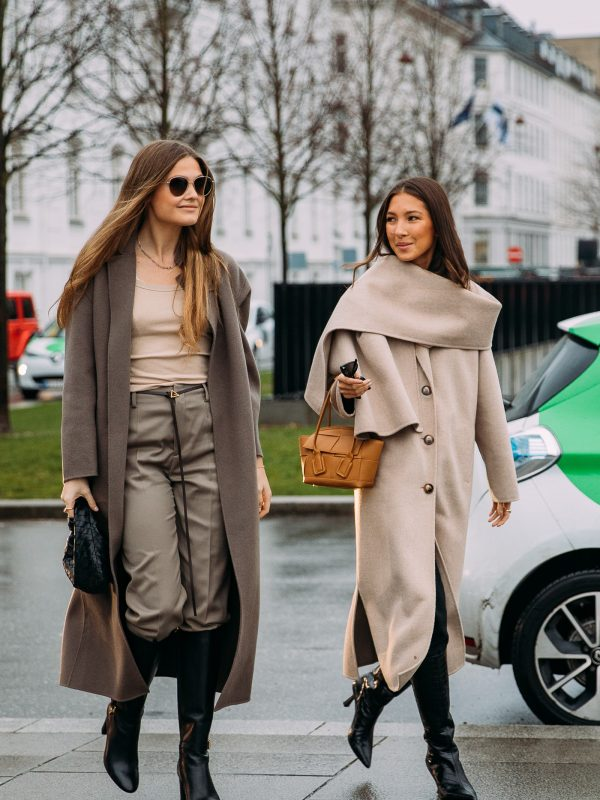Person: (41, 132, 283, 800), (292, 160, 527, 800)
